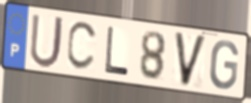8: (138, 31, 169, 83)
C: (65, 20, 100, 73)
G: (208, 39, 240, 92)
L: (104, 24, 131, 77)
U: (28, 12, 66, 71)
V: (172, 30, 209, 90)
